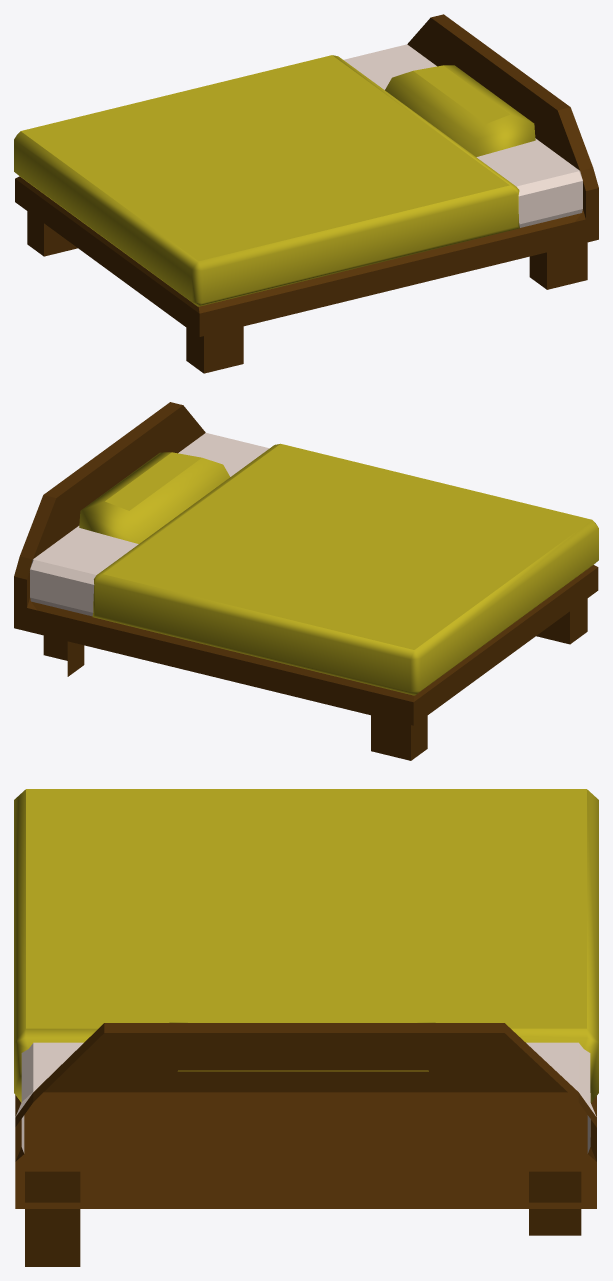
File: interactible_bed_made.fbx
3 views of the same model, one above another, from view 1: azimuth 30°, elevation 25°; view 2: azimuth 150°, elevation 25°; view 3: azimuth 270°, elevation 25° (orthographic). The views are drawn at different scales.
Visible parts, largest first — view 1: interactible_bed1; view 2: interactible_bed1; view 3: interactible_bed1.
Boxes of the visible parts, left/top/right/bottom form: interactible_bed1: left=14, top=14, right=598, bottom=373; interactible_bed1: left=14, top=402, right=598, bottom=760; interactible_bed1: left=14, top=789, right=598, bottom=1266.
Bounding box in the file's own units: 4.04 × 1.46 × 3.22.
